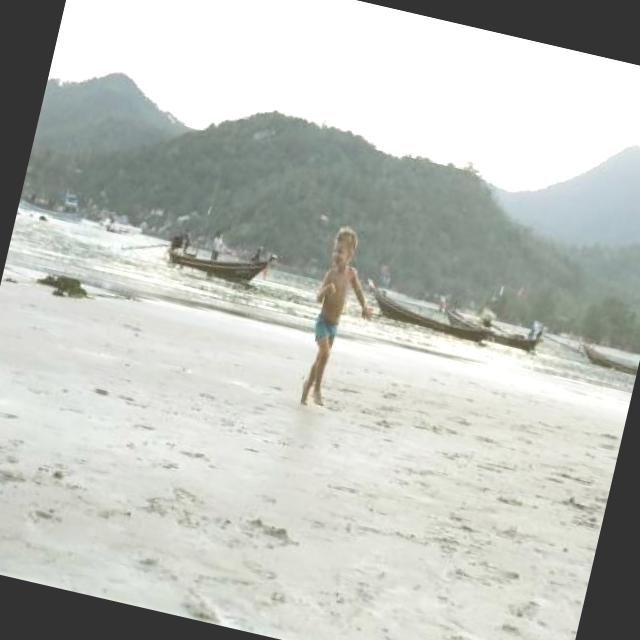Person: (293, 231, 386, 410), (208, 228, 227, 260), (178, 227, 196, 257), (251, 243, 264, 263)
